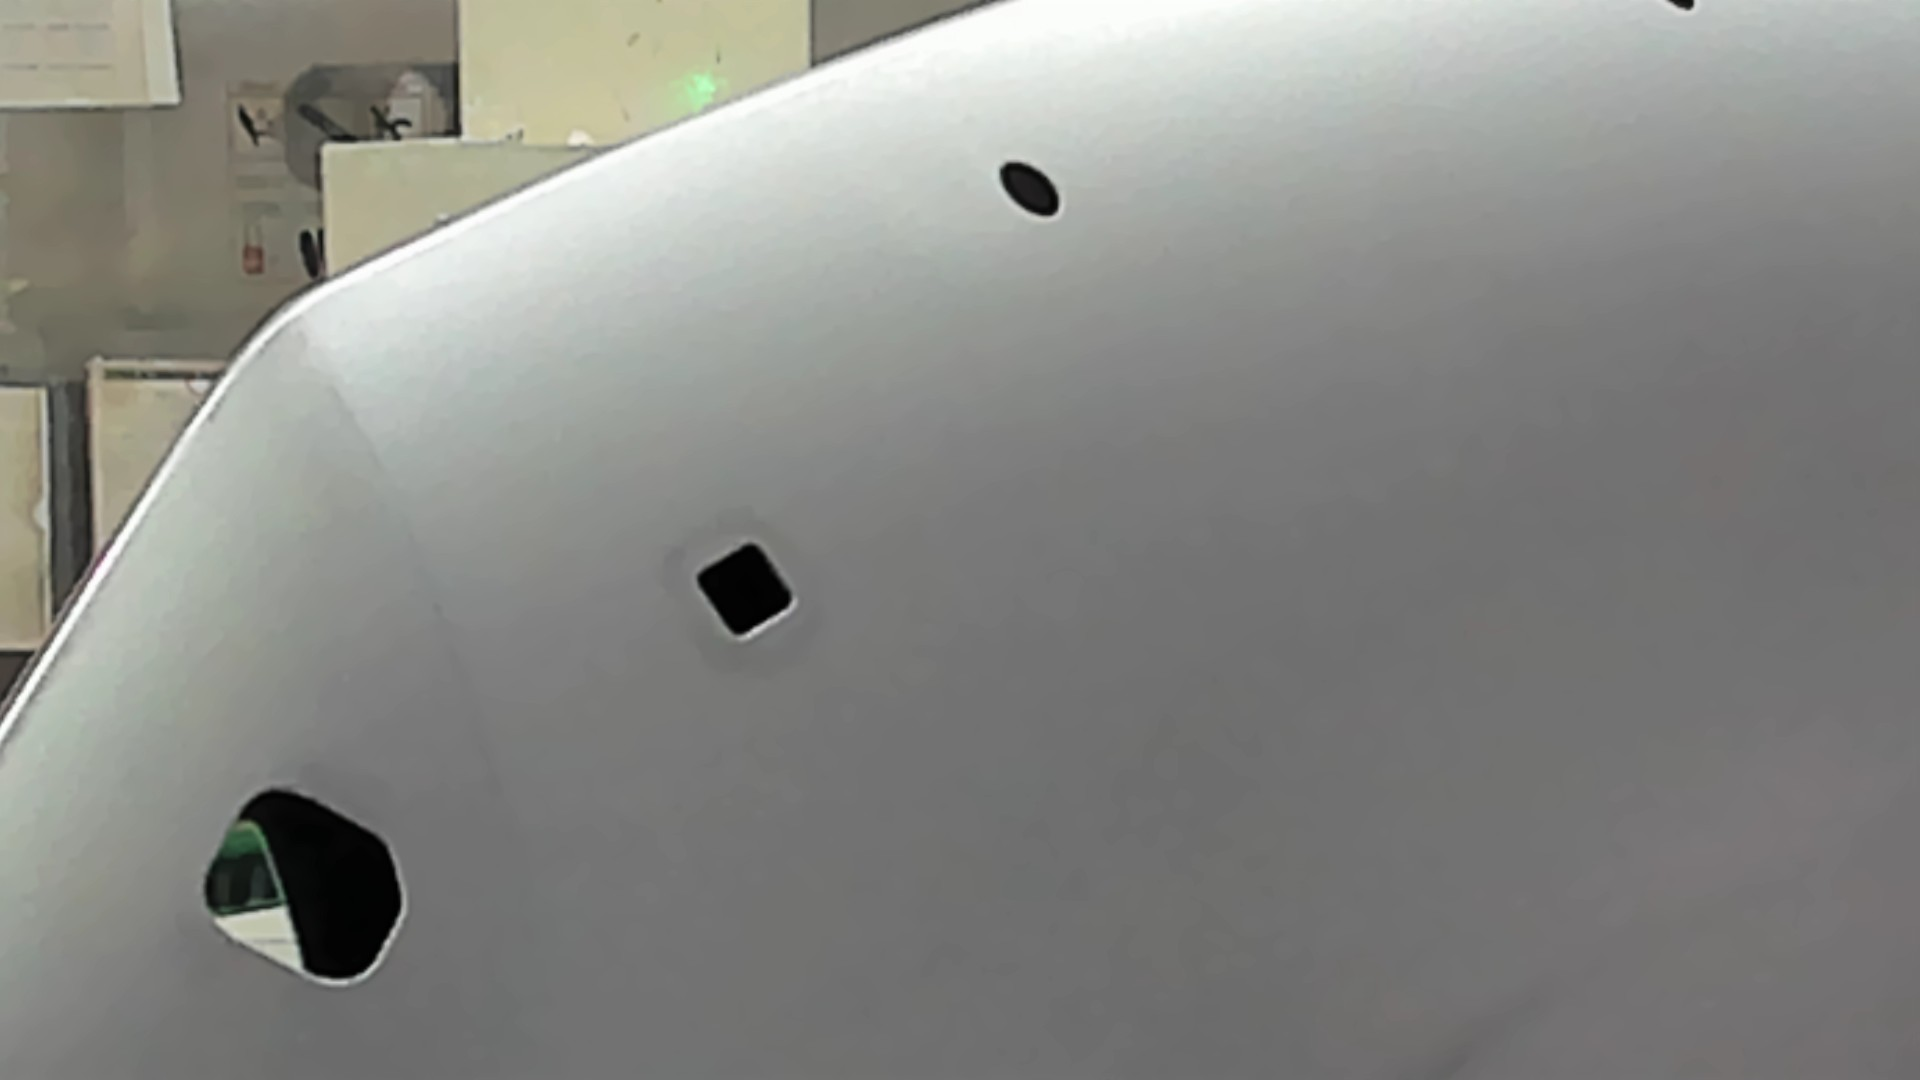chico: (992, 144, 1079, 236)
grande: (183, 775, 436, 1001)
mediano: (684, 527, 815, 658)
